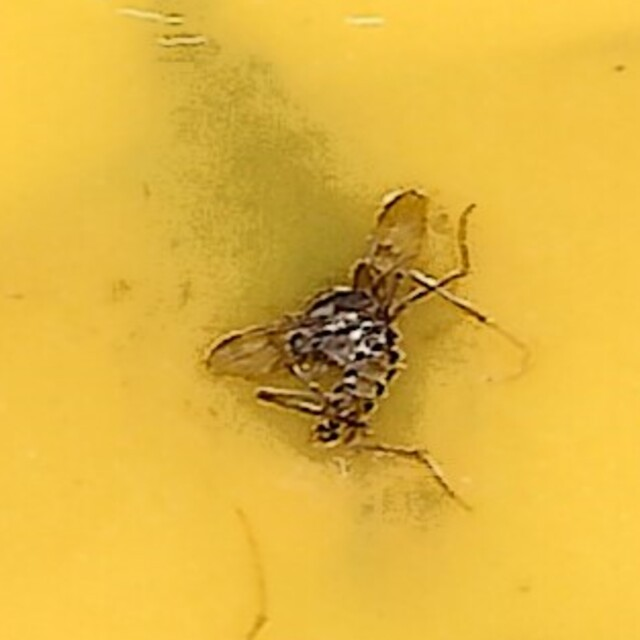Nematocera: (204, 189, 436, 451)
